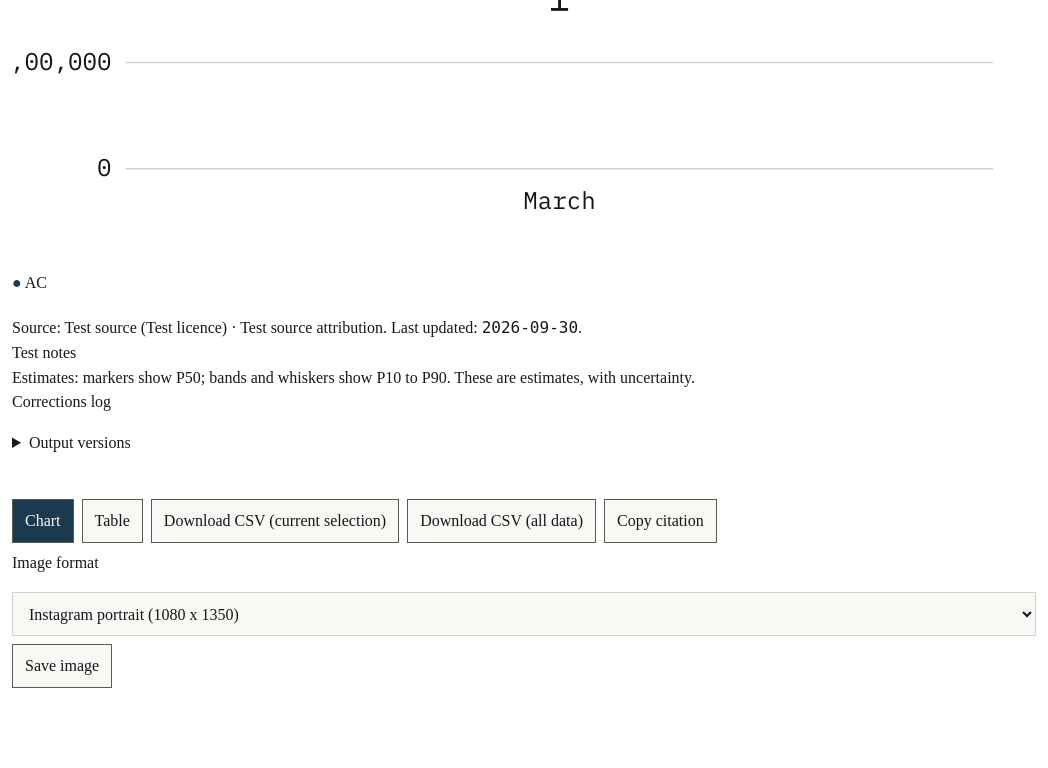
Test: exports the displayed selection and shows errors from image preparation
The image size is (1048, 768).
(page scrolled)
Select "Square (1080 x 1080)" in the dropdown labelled "Image format" at (524, 614), box [12,592,1036,636]
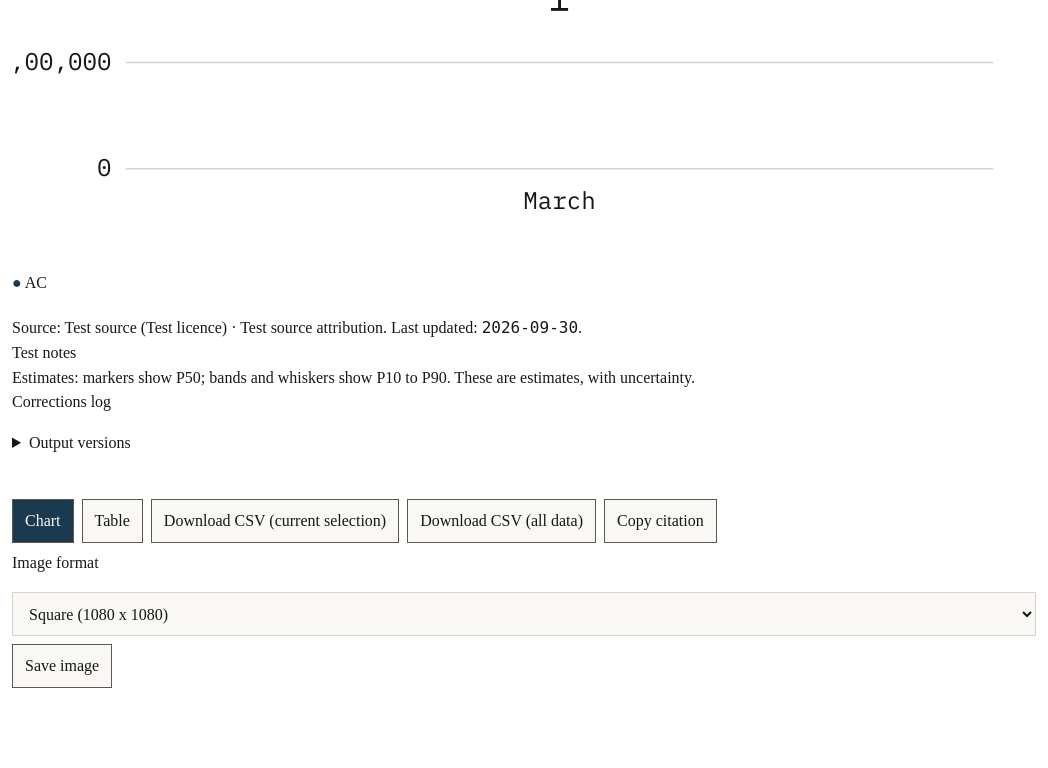
Click the button "Save image" at (62, 666), box [12,644,112,688]
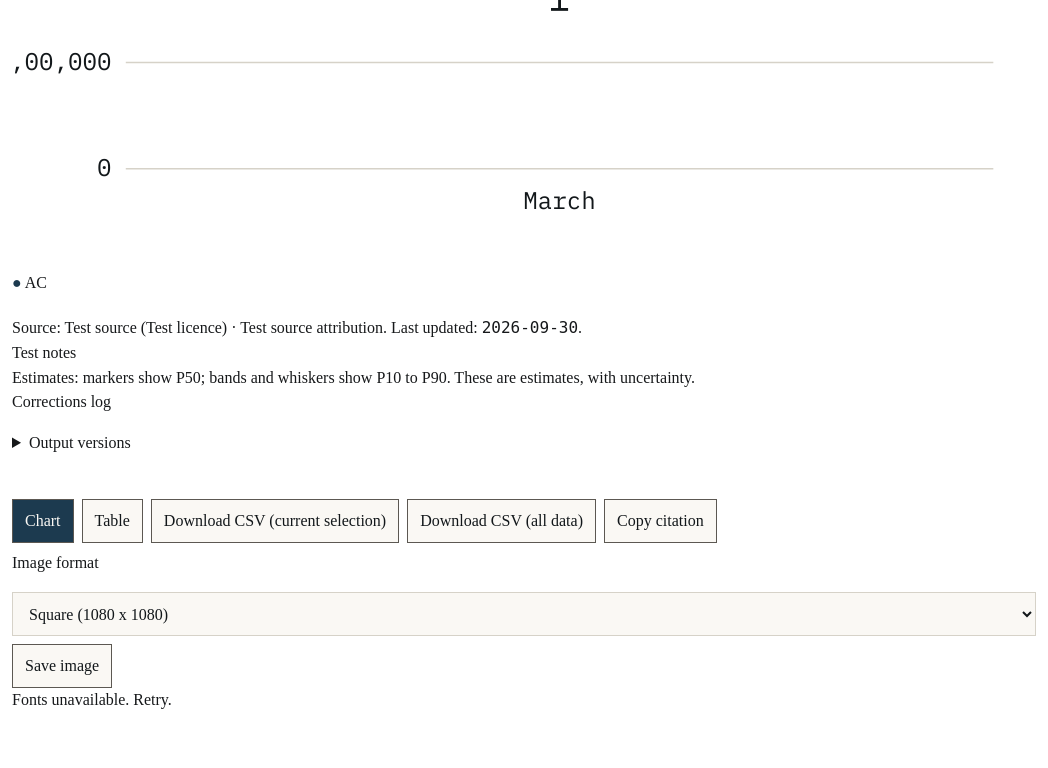
Expected: the message shows "Retry", [12,691,172,708]
